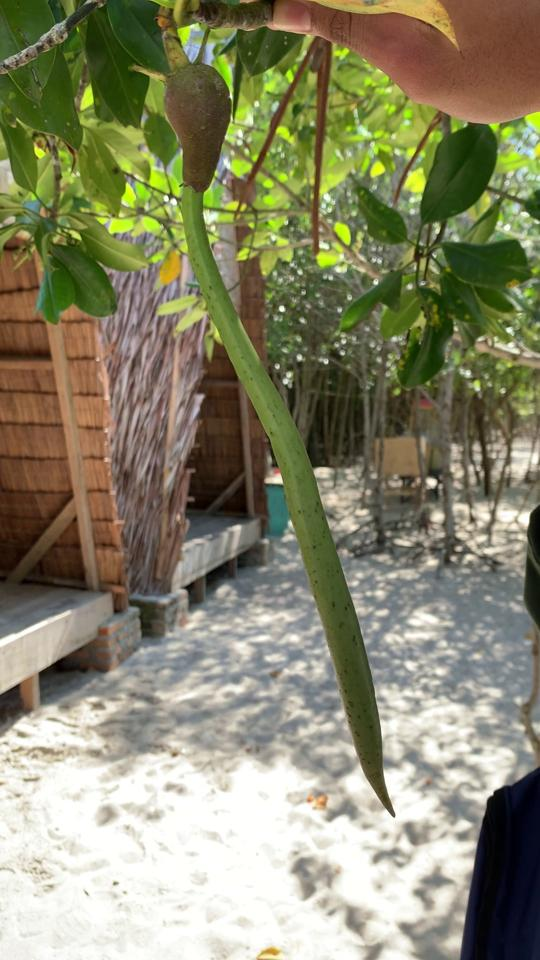mentah: (131, 45, 409, 826)
